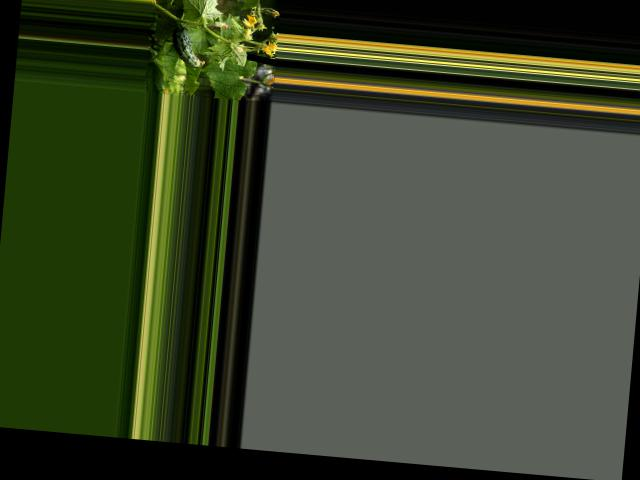cucumber: (170, 24, 208, 68)
